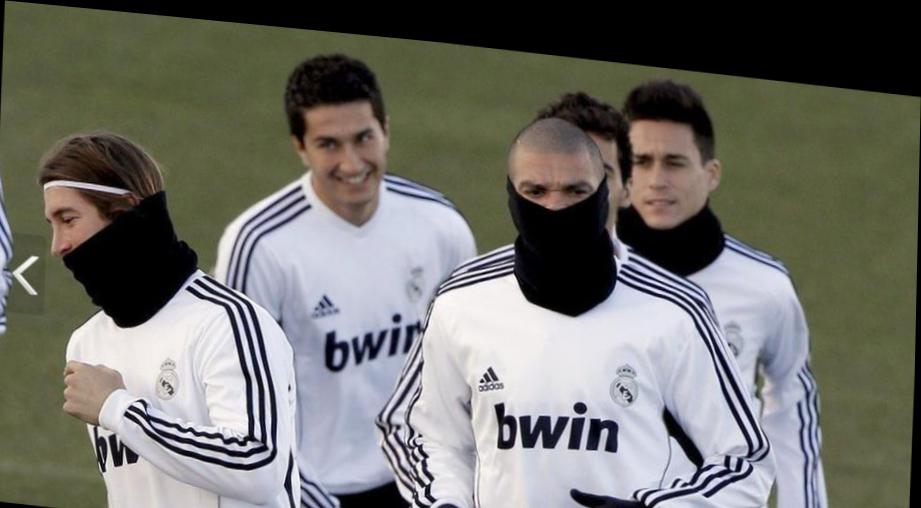NONE: (625, 128, 703, 216), (310, 116, 386, 200)
OK: (510, 149, 608, 253)
WRONG: (42, 193, 133, 289)
